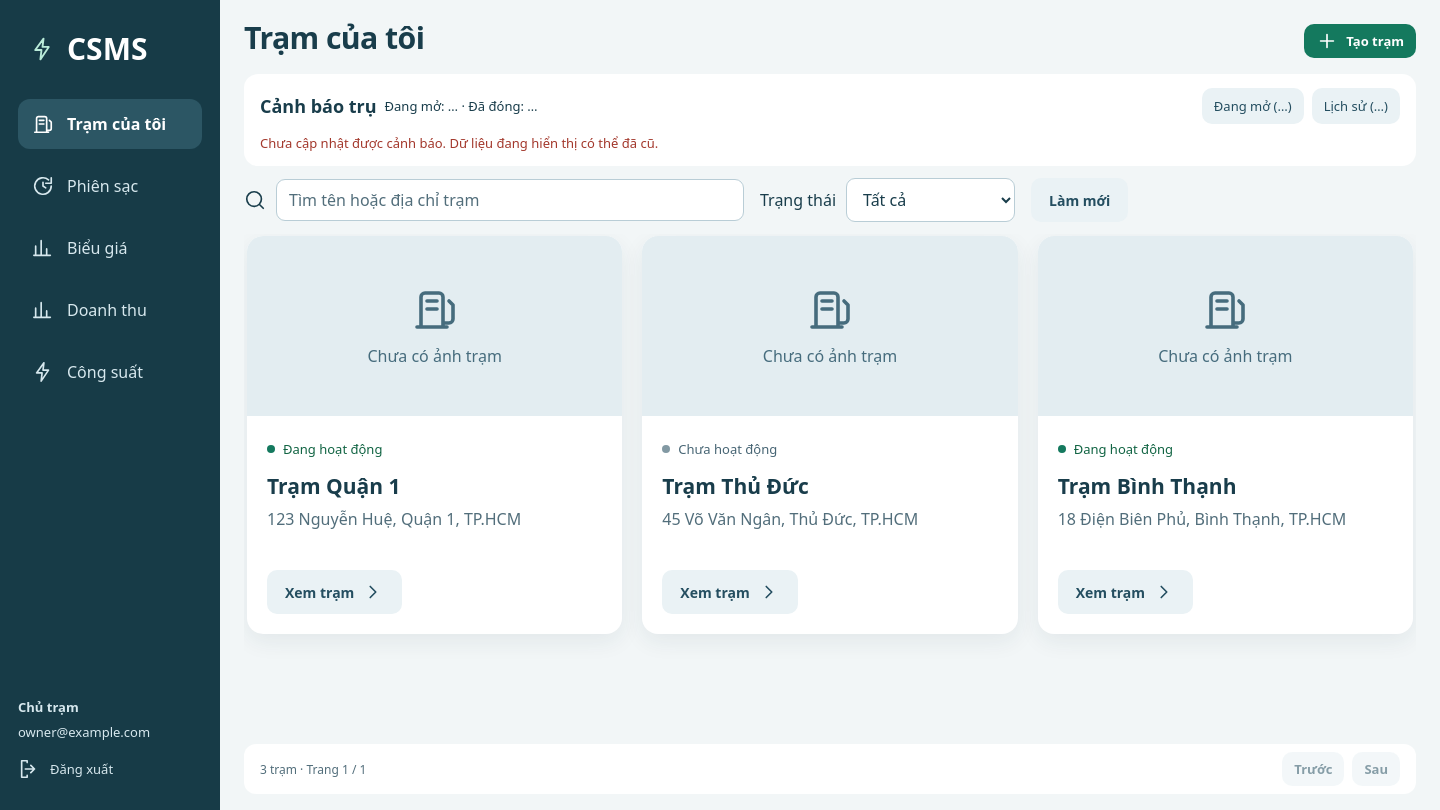
it: App › applies write permissions through station details for ["station_owner"]
Expected: the heading "Trạm của tôi" is shown, [244,20,424,56]
Expected: the link "Trạm của tôi" is shown, [18,99,202,149]
Click the button with aria-label "Xem chi tiết Trạm Quận 1" at (335, 592), box [267,570,402,614]
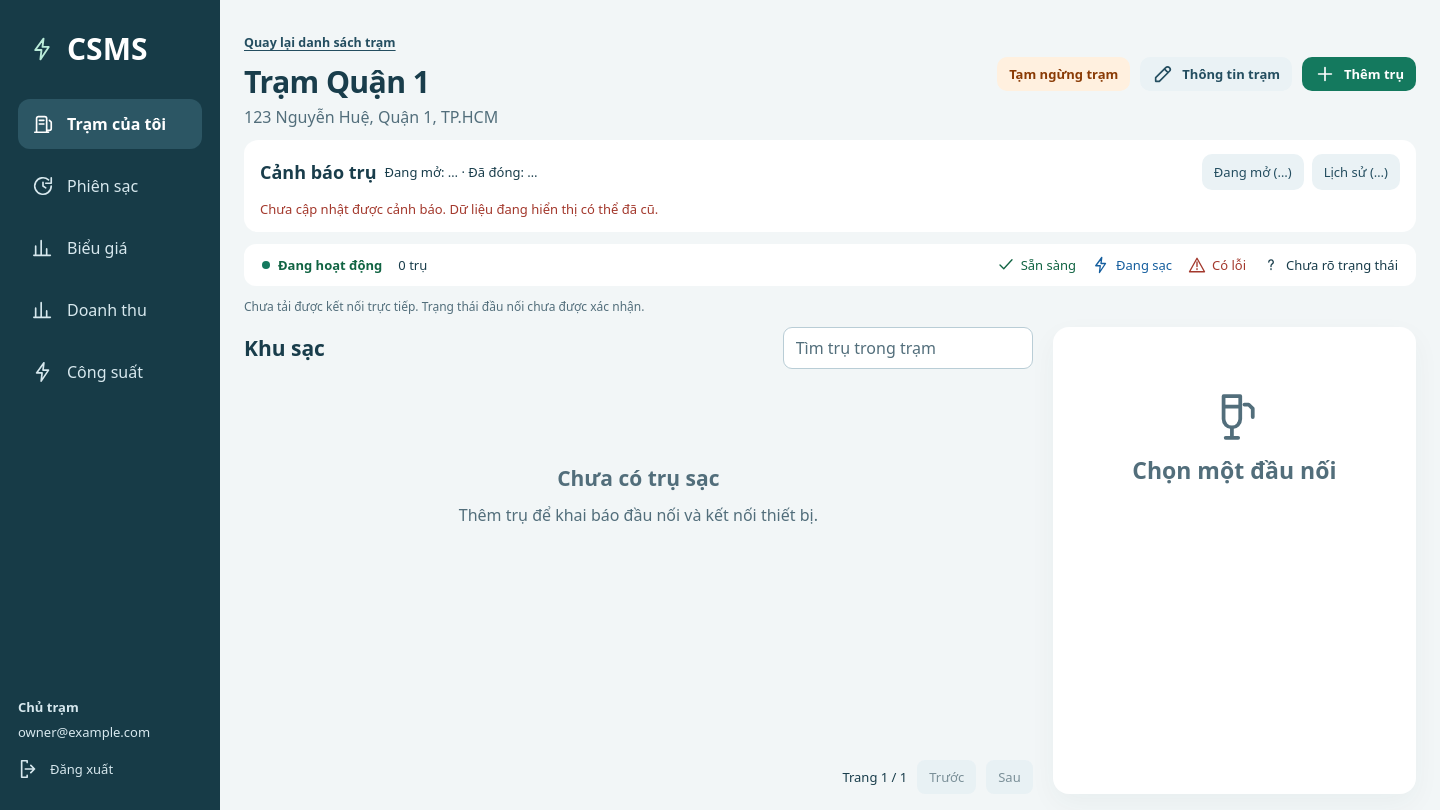
Now the heading "Trạm Quận 1" is shown, box [244,61,430,102]
